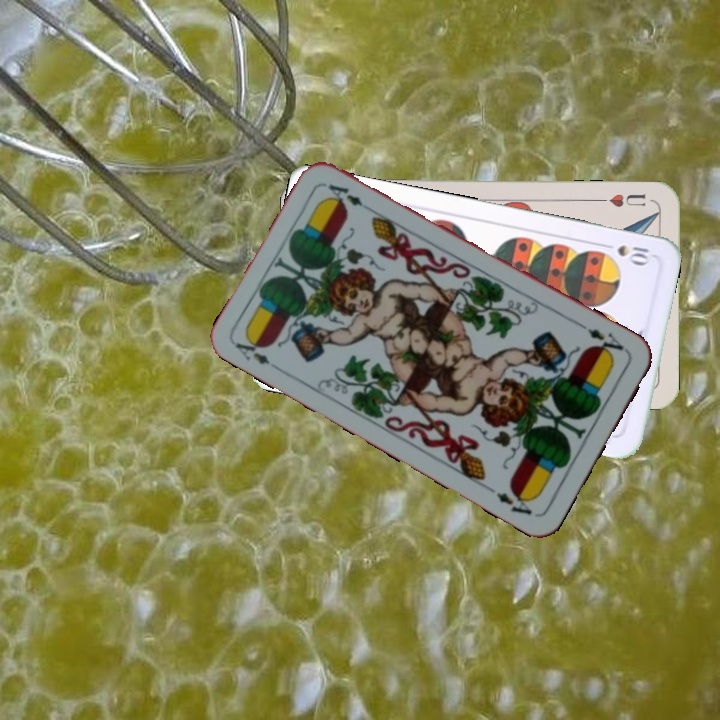EA: (583, 324, 629, 360), (231, 332, 273, 367)
HU: (595, 190, 648, 210)
S10: (597, 239, 654, 267)
